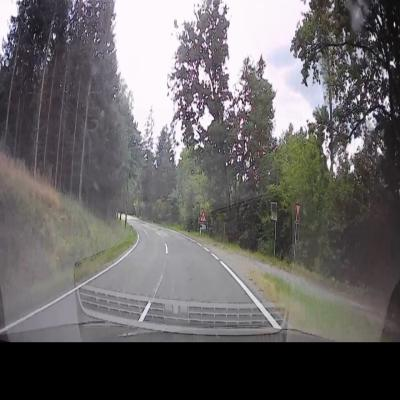clear-road: (92, 219, 250, 302)
